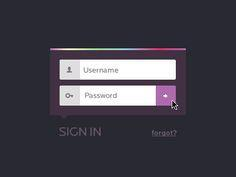icon: (66, 66, 75, 75), (66, 93, 75, 100)
input: (81, 61, 177, 81), (81, 86, 157, 106)
label: (59, 126, 104, 139)
